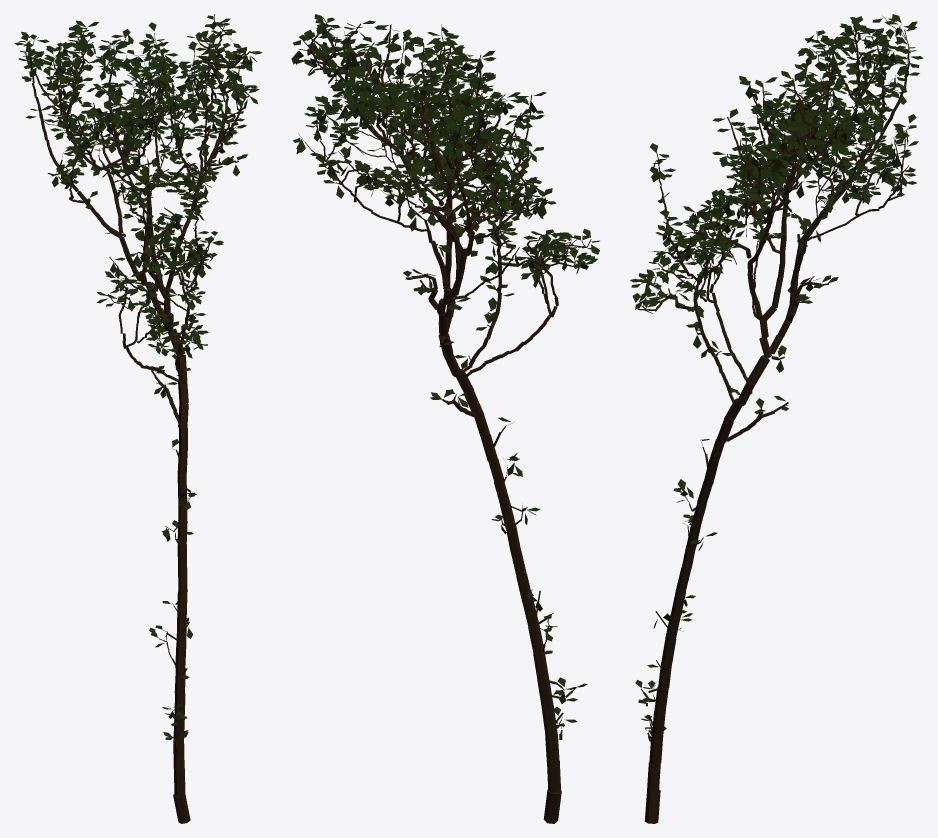
File: tree_127.obj
3 renders of one model, left to right at view 1: azimuth 30°, elevation 25°; view 2: azimuth 150°, elevation 25°; view 3: azimuth 270°, elevation 25°, orthographic. The views are drawn at different scales.
Parts seen in each view (by area): view 1: Leaves, TrunkAndBranches; view 2: Leaves, TrunkAndBranches; view 3: Leaves, TrunkAndBranches.
Part boxes in pixels (box(x1,y1,x2,y2)): Leaves: box(14, 15, 262, 739); TrunkAndBranches: box(24, 14, 250, 823); Leaves: box(291, 14, 599, 726); TrunkAndBranches: box(298, 17, 591, 823); Leaves: box(630, 14, 923, 735); TrunkAndBranches: box(635, 16, 909, 823).
Bounding box in the file's own units: 5.31 × 17.78 × 5.92.
